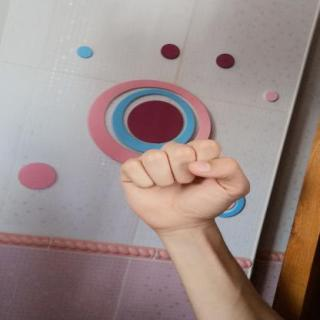SAD: (99, 125, 266, 242)
